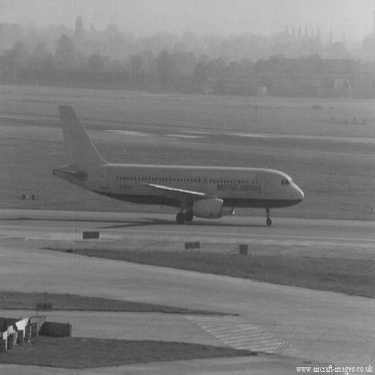airplane: (34, 98, 311, 230)
